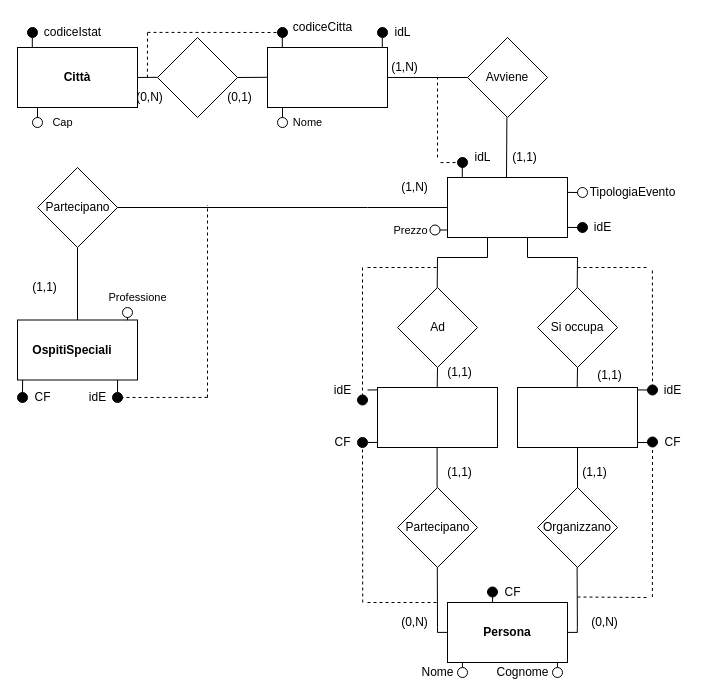
The diagram is 705 pixels wide and 699 high, and some of its shapes have lost their labels. Here are the shapes that lost their labels. From the top down, the centre of each, then its label:
At [197,77]: "Si trova".
At [327,77]: "Locale".
At [507,207]: "Evento".
At [437,417]: "Invitati".
At [577,417]: "Organizzazione".
